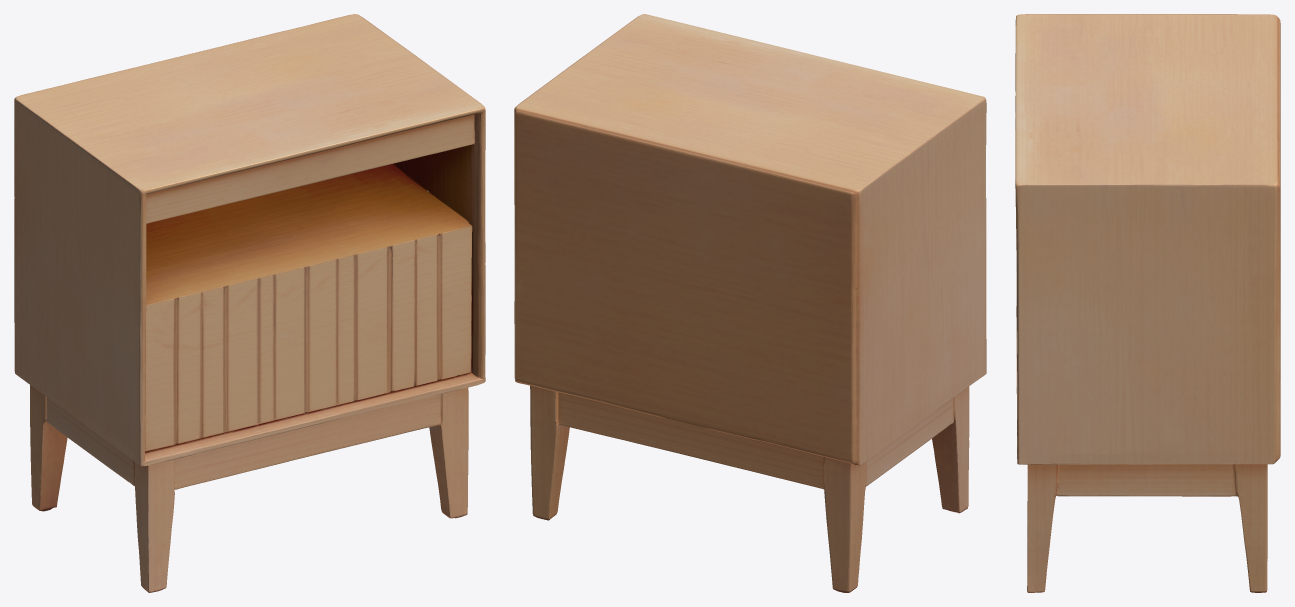
File: BURO MYKONOS TABACO CLARO.glb
3 renders of one model, left to right at view 1: azimuth 30°, elevation 25°; view 2: azimuth 150°, elevation 25°; view 3: azimuth 270°, elevation 25°, orthographic.
Visible parts, largest first — view 1: world; view 2: world; view 3: world.
Boxes of the visible parts, box(x1,y1,x2,y2) form: world: box(14, 14, 485, 592); world: box(514, 14, 986, 592); world: box(1015, 14, 1280, 592).
Bounding box in the file's own units: 0.8819 × 1 × 0.5776.
Materials: 1 (1 with a texture image).
